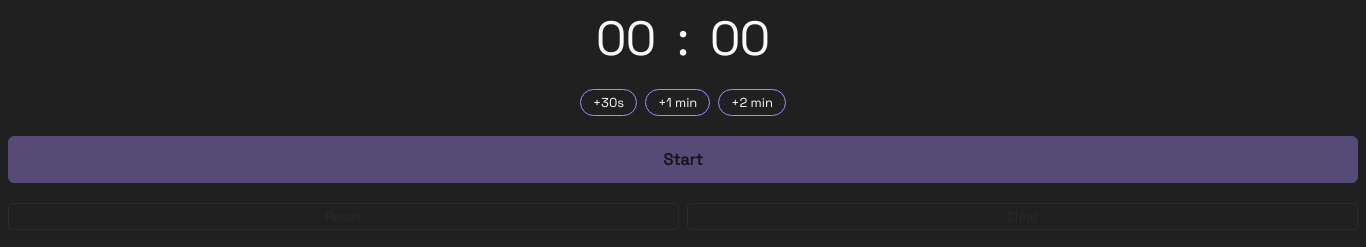
Test: TimerControls › start / stop › disables the time inputs while the timer is running
Click the button "+1 min" at [678, 102], box [645, 89, 710, 116]
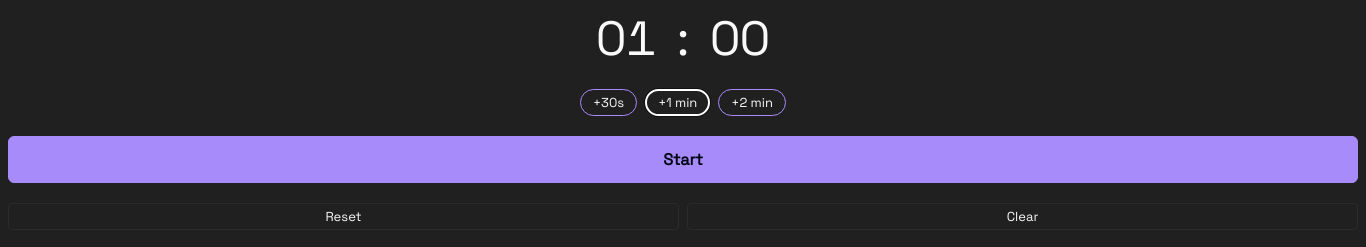
Click the button "Start" at [683, 160], box [8, 136, 1358, 183]
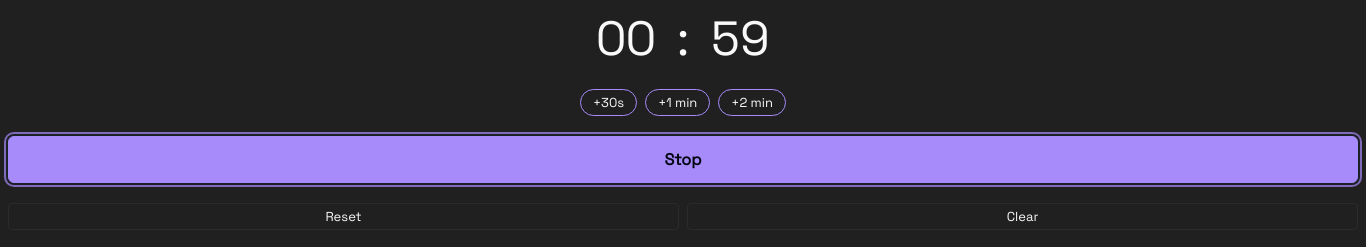
Expected: the field named "Minutes" is disabled, [580, 8, 672, 69]
Expected: the field named "Seconds" is disabled, [694, 8, 786, 69]
